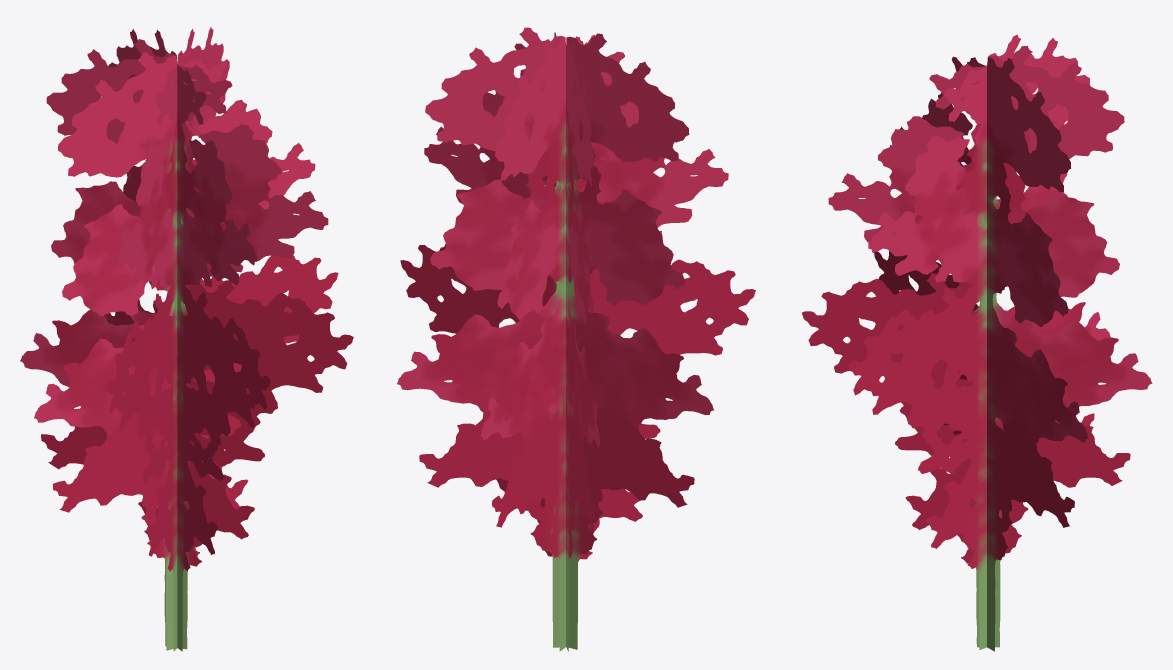
The model's file is FlorRosa.fbx.
3 views of the same model, side by side, from view 1: azimuth 30°, elevation 25°; view 2: azimuth 150°, elevation 25°; view 3: azimuth 270°, elevation 25° (orthographic). The views are drawn at different scales.
Parts seen in each view (by area): view 1: Florrosa; view 2: Florrosa; view 3: Florrosa.
Part boxes in pixels (bbox=[...]): Florrosa: bbox=[20, 27, 353, 651]; Florrosa: bbox=[397, 27, 755, 651]; Florrosa: bbox=[802, 34, 1152, 651].
Size of the model in its own units: 0.476 by 0.8824 by 0.476.
